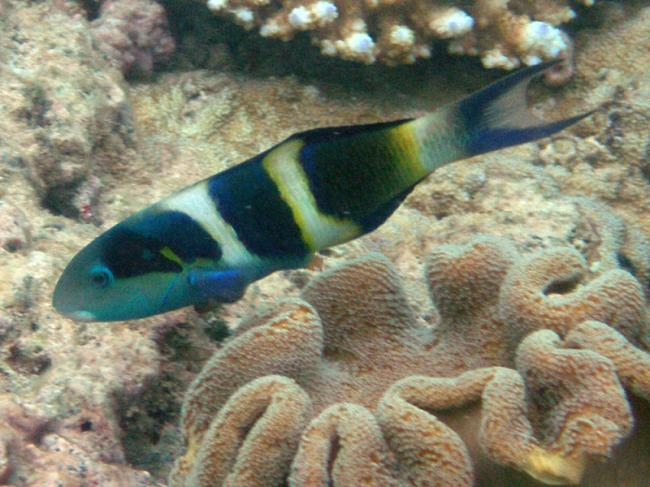fish: (52, 56, 597, 324)
